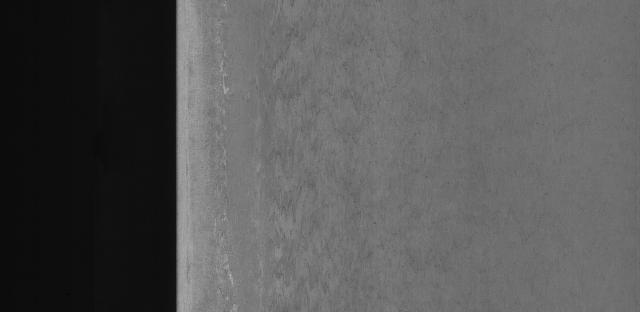silk_spot: (245, 5, 429, 307)
